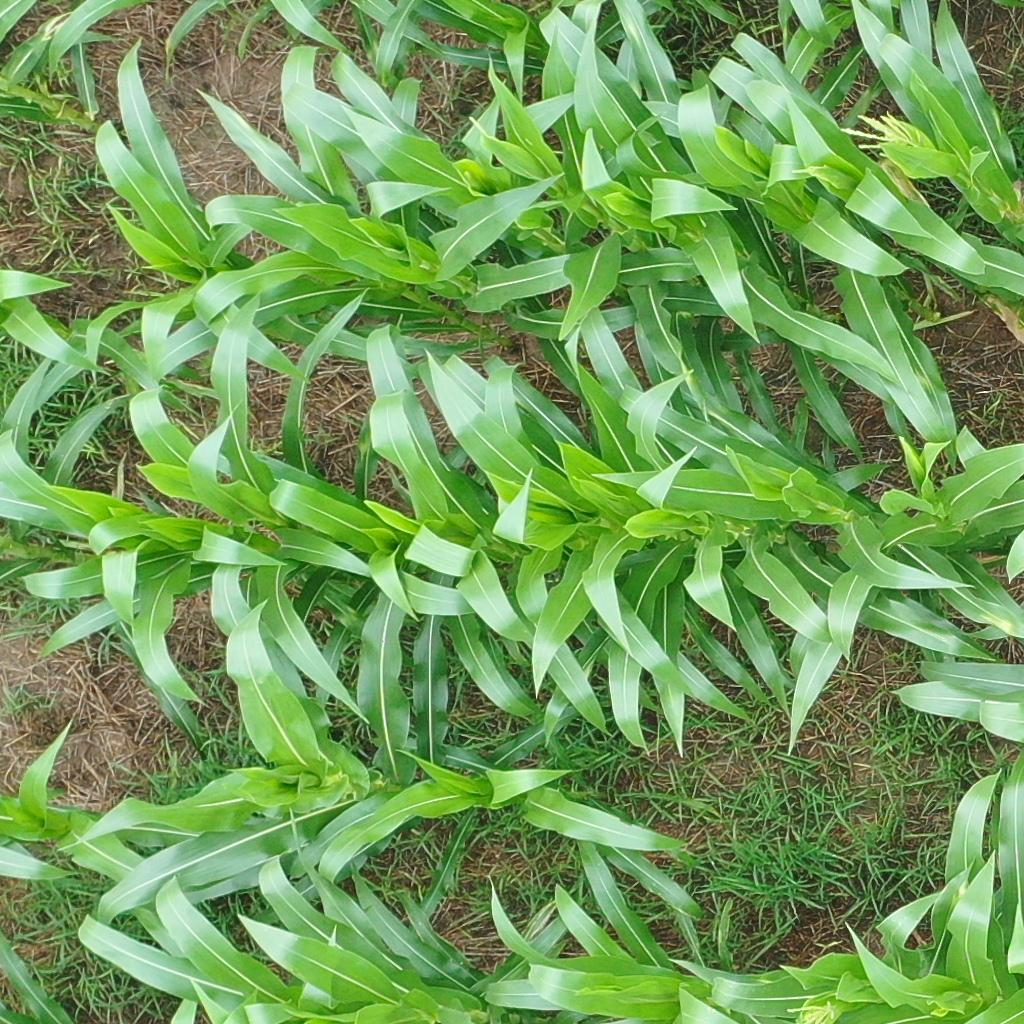Tassel: (840, 111, 924, 153), (786, 997, 837, 1024)
